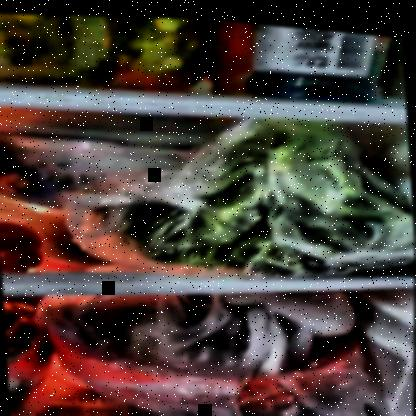lettuce: (102, 99, 415, 282)
tomato: (1, 217, 49, 275)
